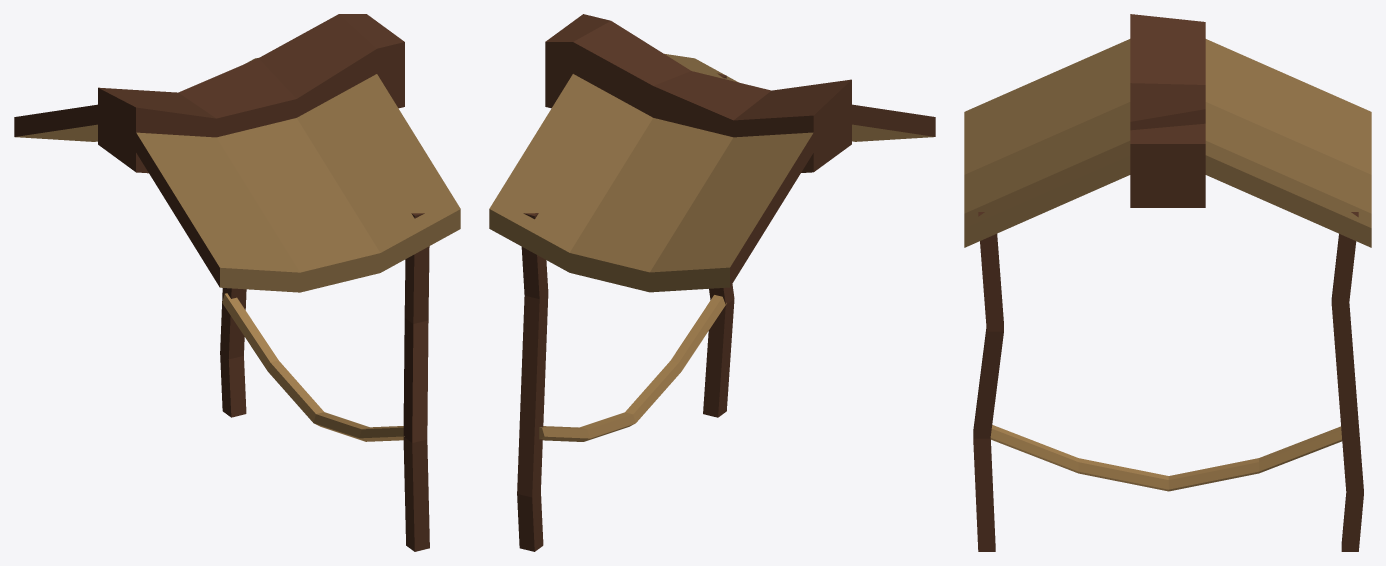
The model's file is StiltOverHang_02.fbx.
3 renders of one model, left to right at view 1: azimuth 30°, elevation 25°; view 2: azimuth 150°, elevation 25°; view 3: azimuth 270°, elevation 25°, orthographic.
Visible parts, largest first — view 1: Shade_2; view 2: Shade_2; view 3: Shade_2.
Boxes of the visible parts, x1,y1,x2,y2 form: Shade_2: [14, 14, 460, 551]; Shade_2: [489, 14, 935, 551]; Shade_2: [964, 14, 1371, 551].
Size of the model in its own units: 94.81 by 150 by 126.
